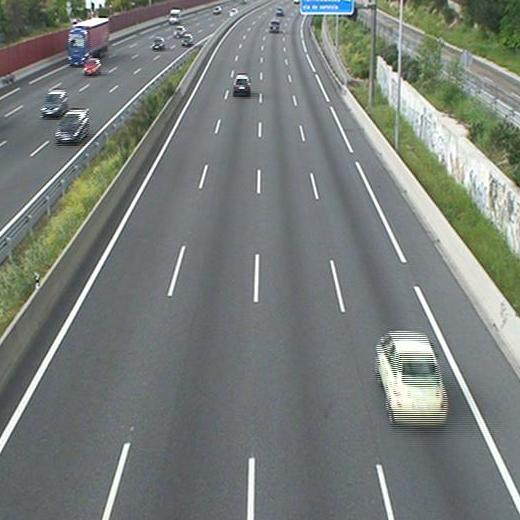car: (376, 333, 446, 421), (233, 76, 250, 92), (269, 19, 280, 32)
